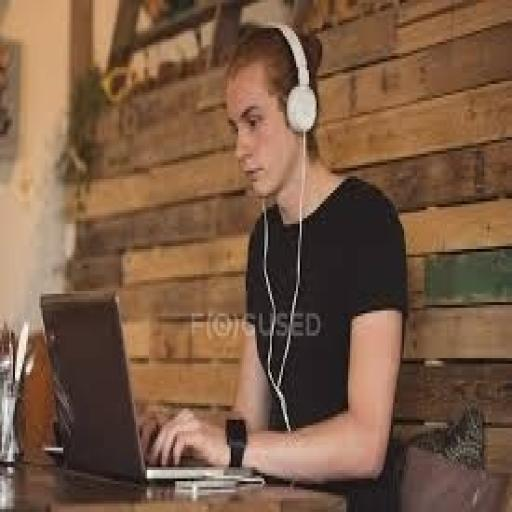listening_to_music: (138, 17, 410, 506)
